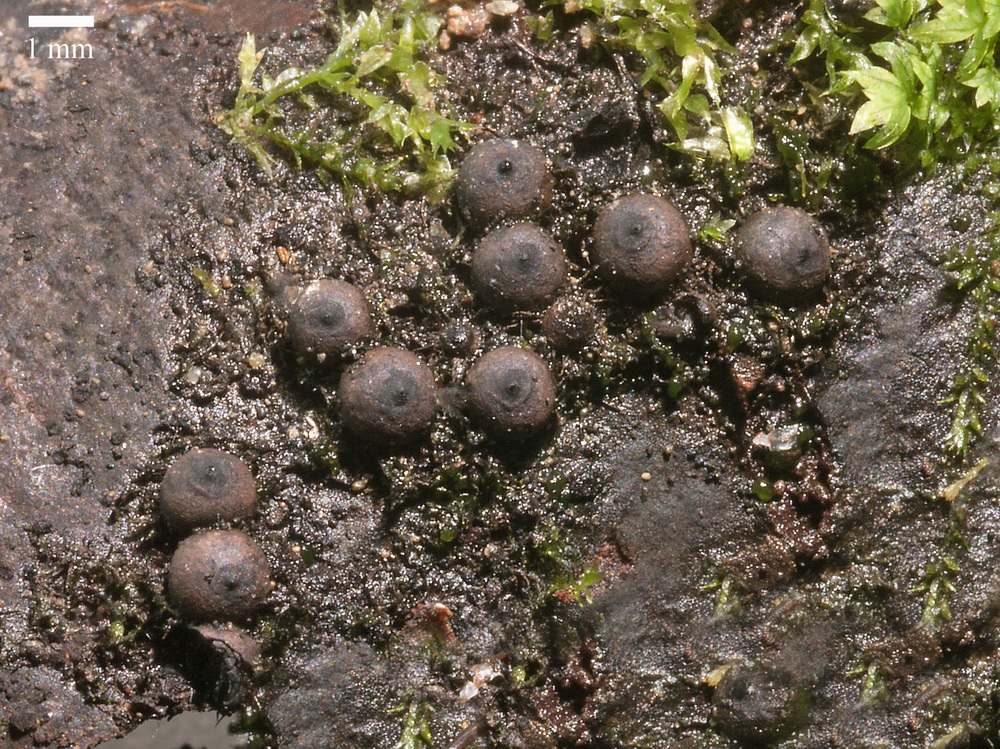pudricion radicular: (252, 29, 910, 640)
